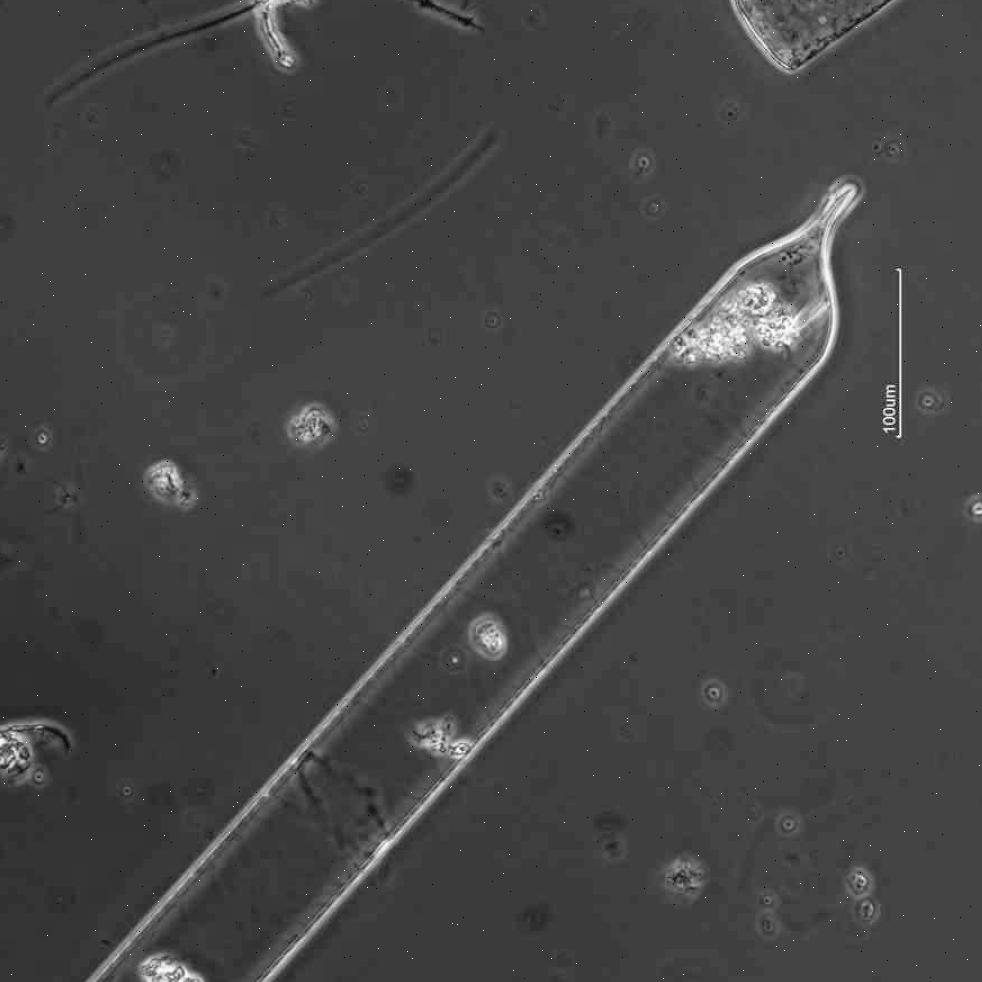proboscia_alata: (86, 174, 864, 982)
